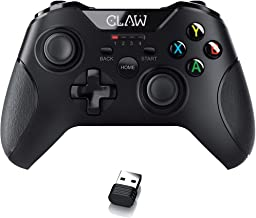gamingconsole: (1, 1, 256, 169)
